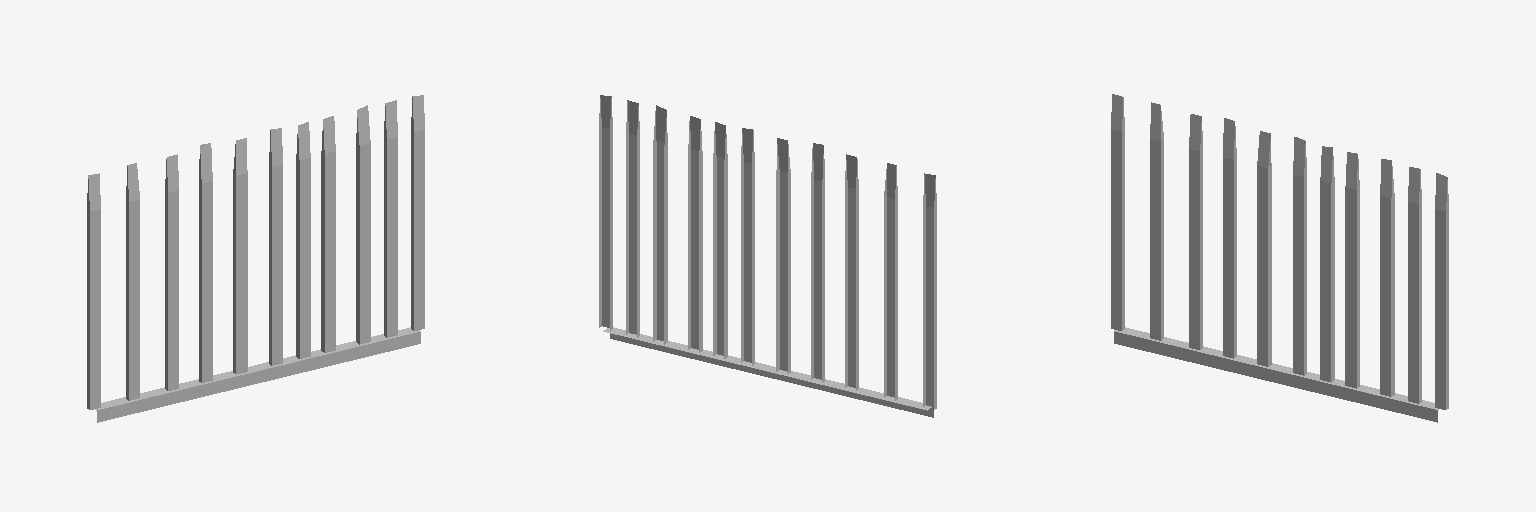
The model's file is cage.obj.
3 views of the same model, side by side, from view 1: azimuth 30°, elevation 25°; view 2: azimuth 150°, elevation 25°; view 3: azimuth 330°, elevation 25° (orthographic).
Parts seen in each view (by area): view 1: gate_0; view 2: gate_0; view 3: gate_0.
Boxes of the visible parts, x1,y1,x2,y2 form: gate_0: [87, 95, 424, 422]; gate_0: [599, 95, 936, 417]; gate_0: [1111, 94, 1448, 422].
Size of the model in its own units: 2.99 by 2.13 by 0.1055.